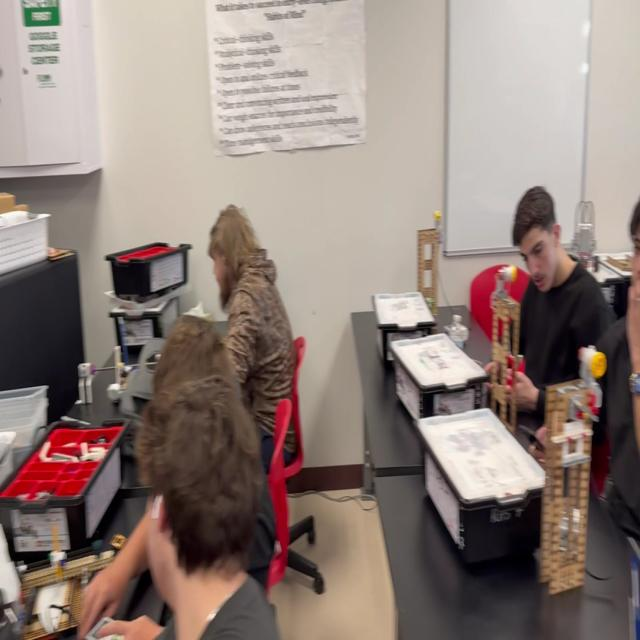pen: (518, 423, 551, 461), (480, 368, 510, 394)
